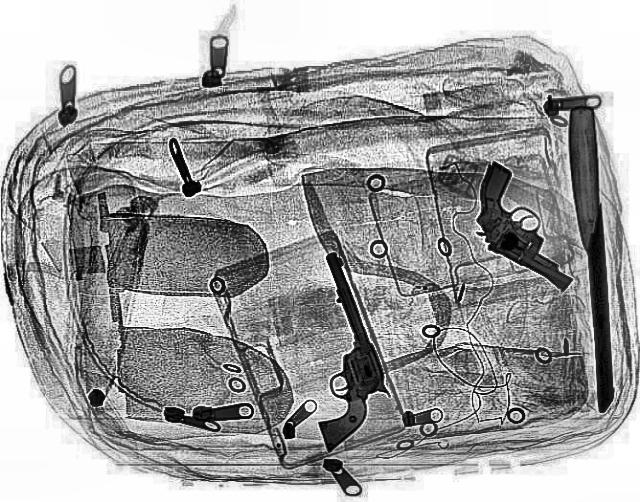Gun: (251, 252, 409, 452), (430, 160, 620, 289)
Knife: (566, 104, 612, 411)
